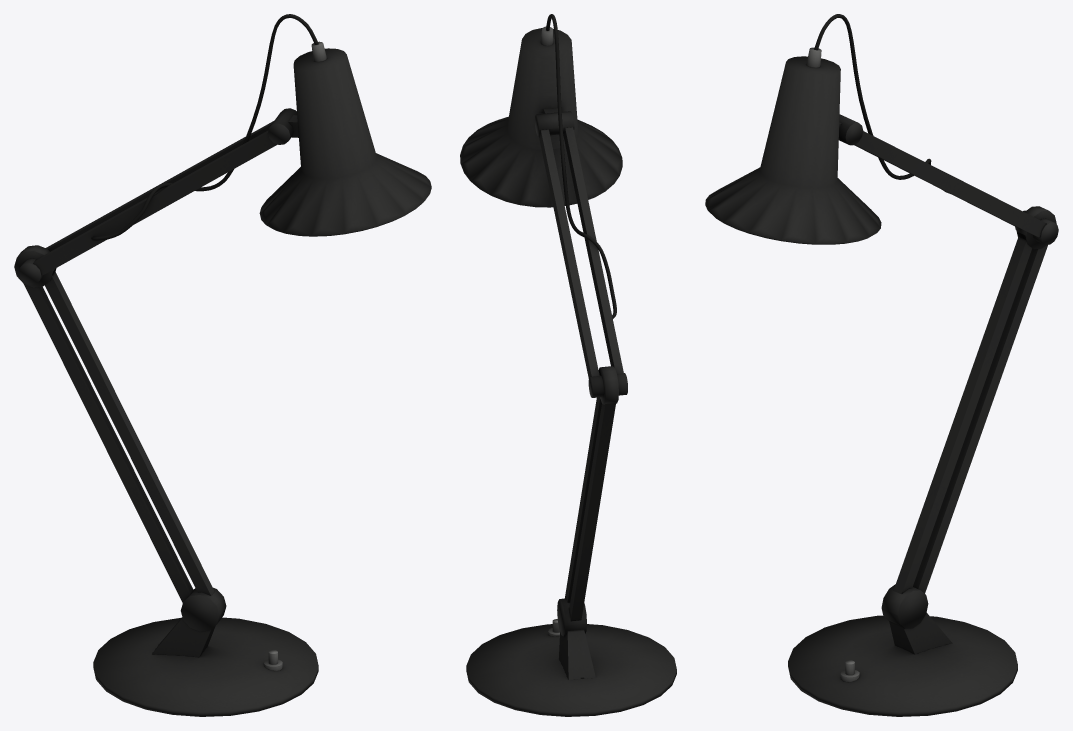
File: lamp.obj
3 views of the same model, side by side, from view 1: azimuth 30°, elevation 25°; view 2: azimuth 150°, elevation 25°; view 3: azimuth 270°, elevation 25° (orthographic). The views are drawn at different scales.
Parts seen in each view (by area): view 1: lamp; view 2: lamp; view 3: lamp.
Boxes of the visible parts, x1,y1,x2,y2 form: lamp: (14,14,431,716); lamp: (460,14,676,716); lamp: (705,14,1058,716).
Size of the model in its own units: 51.33 by 115 by 54.06.
